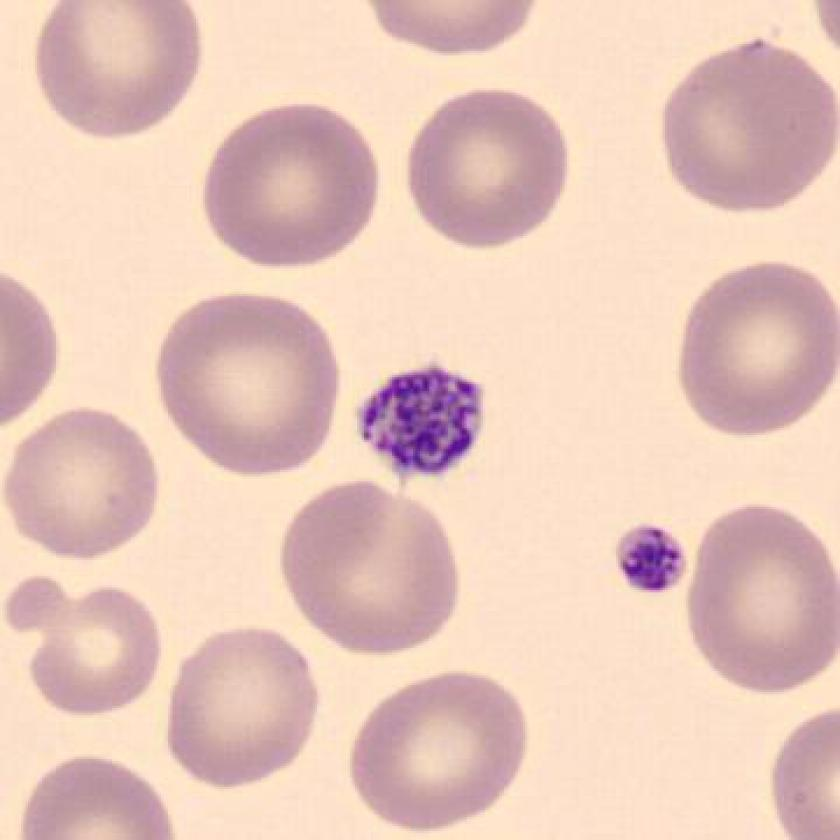platelets: (349, 353, 496, 489), (608, 515, 699, 612)
